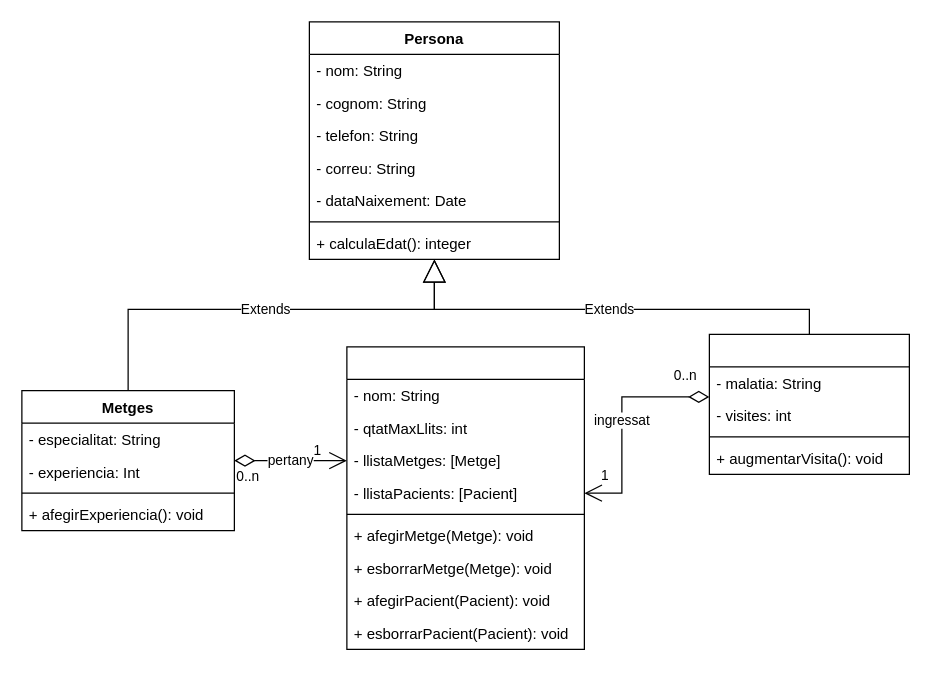
Image size: 931x675. Some labels were removed from this diagram. The box of each missing label's shape, as (x1, y1, x2, y2) in pixels:
Hospital: (346, 346, 584, 649)
Pacients: (708, 333, 909, 474)
